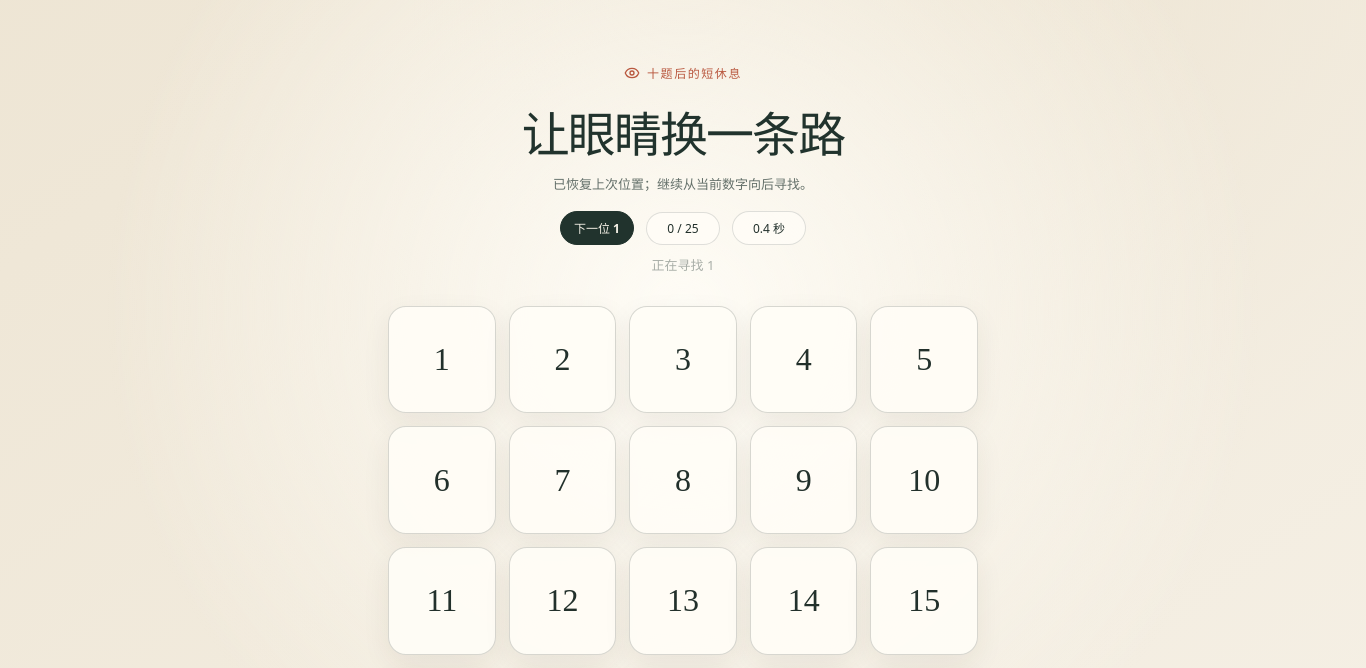
Test case: ReviewView › reloads authoritative focus progress after a stale selection
Click the button named "数字 1" at (442, 360), box [388,306,496,413]
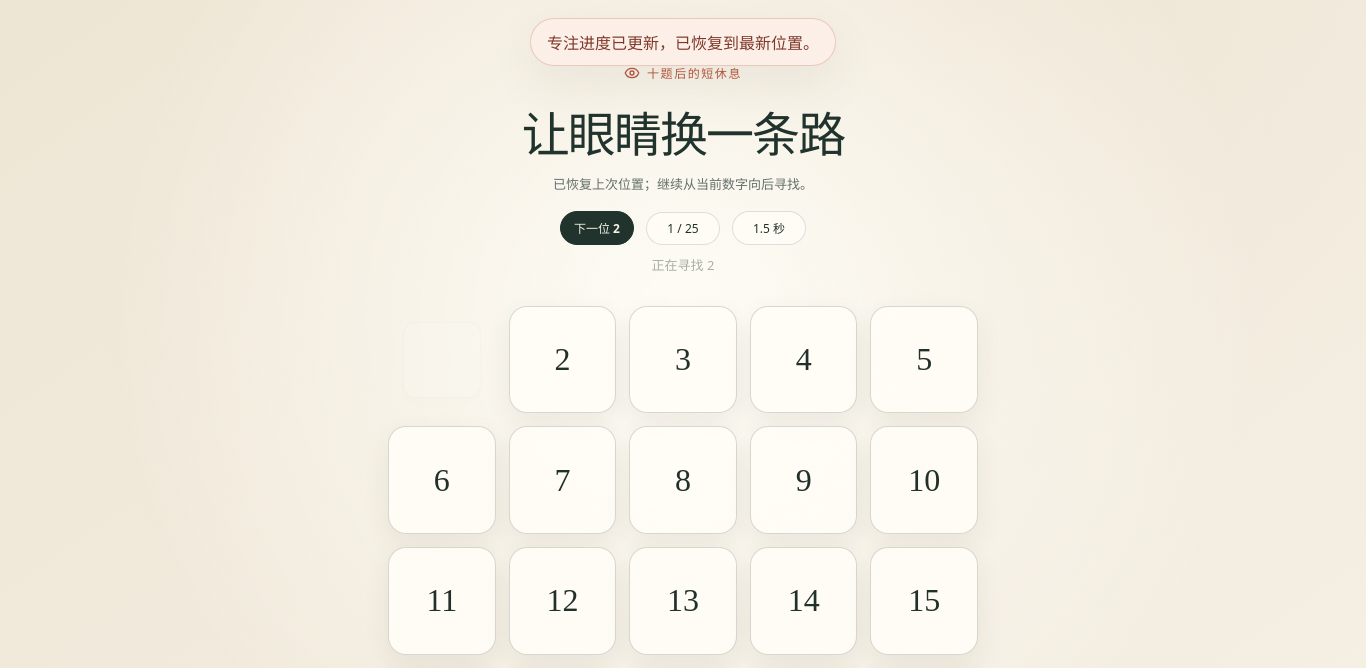
Expected: the text "下一位 2" is shown, [560,211,634,245]
Expected: the message "专注进度已更新，已恢复到最新位置。" is shown, [530,18,836,66]
